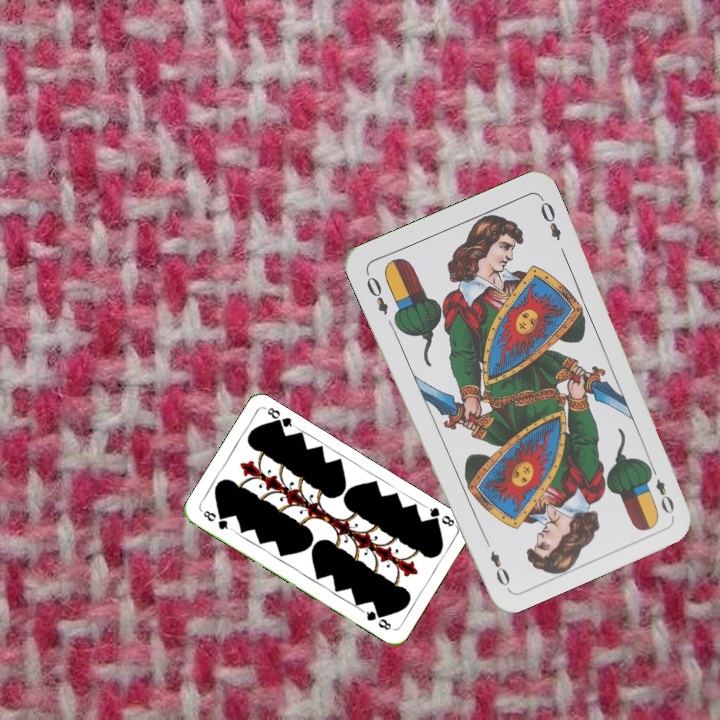EO: (644, 461, 677, 517), (362, 272, 391, 318)
G8: (422, 502, 458, 529), (199, 506, 234, 533)
